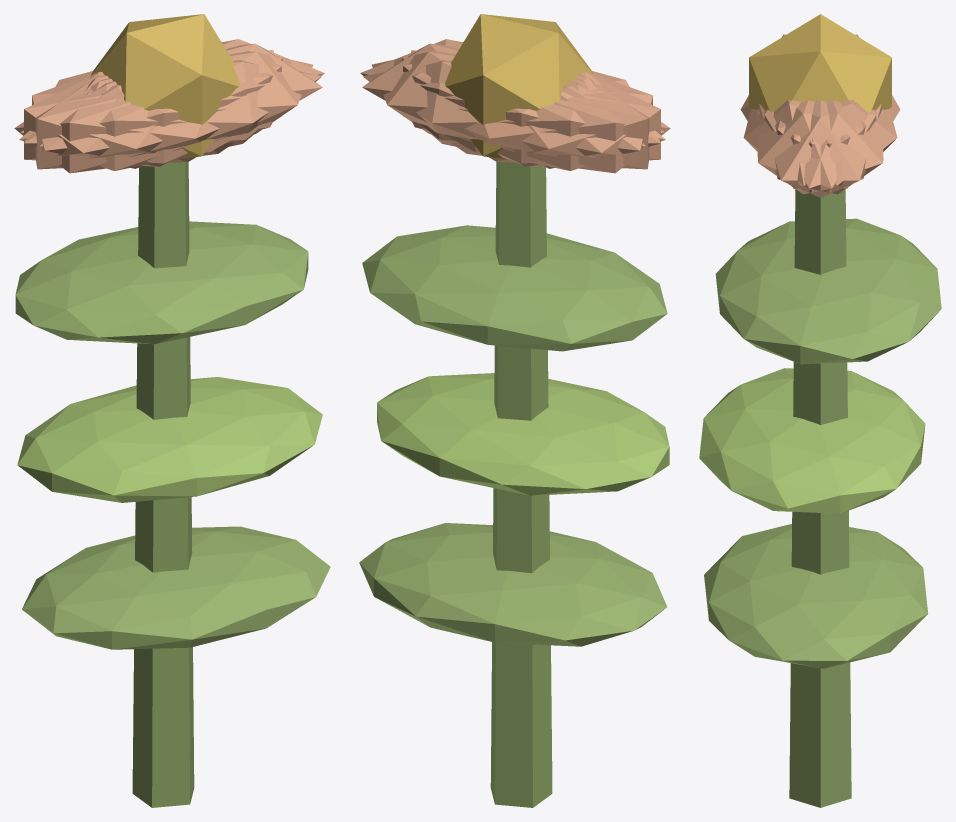
The model's file is arachis-hypogaea.glb.
3 views of the same model, side by side, from view 1: azimuth 30°, elevation 25°; view 2: azimuth 150°, elevation 25°; view 3: azimuth 270°, elevation 25° (orthographic).
Visible parts, largest first — view 1: leaf1, leaf0, leaf2, stem, center, petal1, petal6, petal2, petal5, petal7, petal0, petal4 (+2 smaller); view 2: leaf2, leaf0, leaf1, stem, center, petal8, petal3, petal7, petal4, petal2, petal0, petal5 (+2 smaller); view 3: leaf2, leaf0, leaf1, stem, center, petal0, petal5, petal4, petal1, petal8.
Part boxes in pixels (x1,y1,x2,y2): leaf1: (17,377,322,502); leaf0: (22,526,330,649); leaf2: (15,221,308,344); stem: (132,162,194,807); center: (91,14,239,158); petal1: (19,60,321,170); petal6: (14,73,233,173); petal2: (35,50,273,169); petal5: (39,51,313,163); petal7: (24,56,282,166); petal0: (90,43,322,152); petal4: (20,39,324,143); leaf2: (362,225,667,351); leaf0: (359,523,667,646); leaf1: (377,373,669,495); stem: (490,162,552,807); center: (445,14,594,158); petal8: (363,60,665,170); petal3: (451,73,670,173); petal7: (411,50,649,169); petal4: (372,51,645,163); petal2: (402,56,660,166); petal0: (362,43,594,152); petal5: (360,39,664,143); leaf2: (715,218,941,364); leaf0: (704,524,928,668); leaf1: (699,368,925,513); stem: (789,189,851,807); center: (749,14,891,111); petal0: (759,100,881,197); petal5: (757,100,876,194); petal4: (764,100,883,194); petal1: (743,100,865,185); petal8: (775,100,897,185).
Size of the model in its own units: 0.1452 by 0.3594 by 0.1037.
